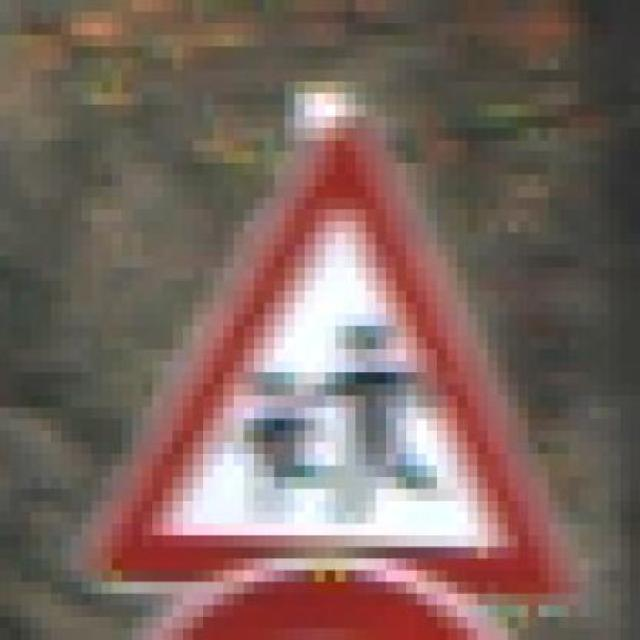Beware of children: (71, 105, 589, 617)
